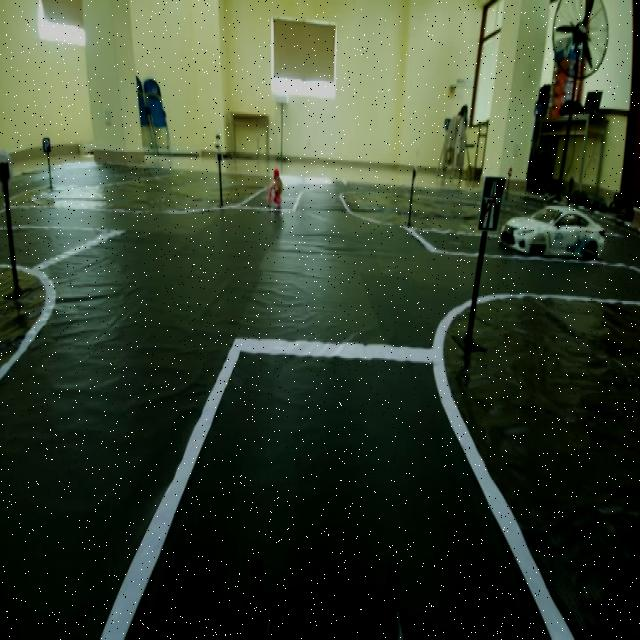highway_exit: (472, 167, 505, 240)
